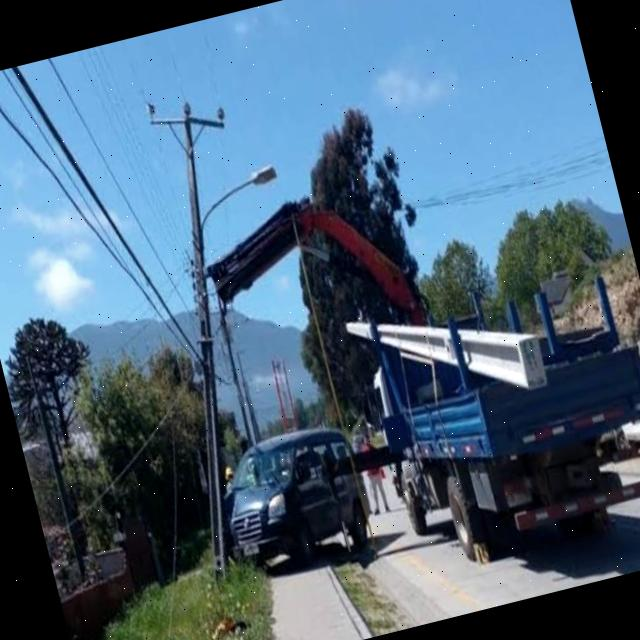Broken Pole: (145, 99, 276, 585)
